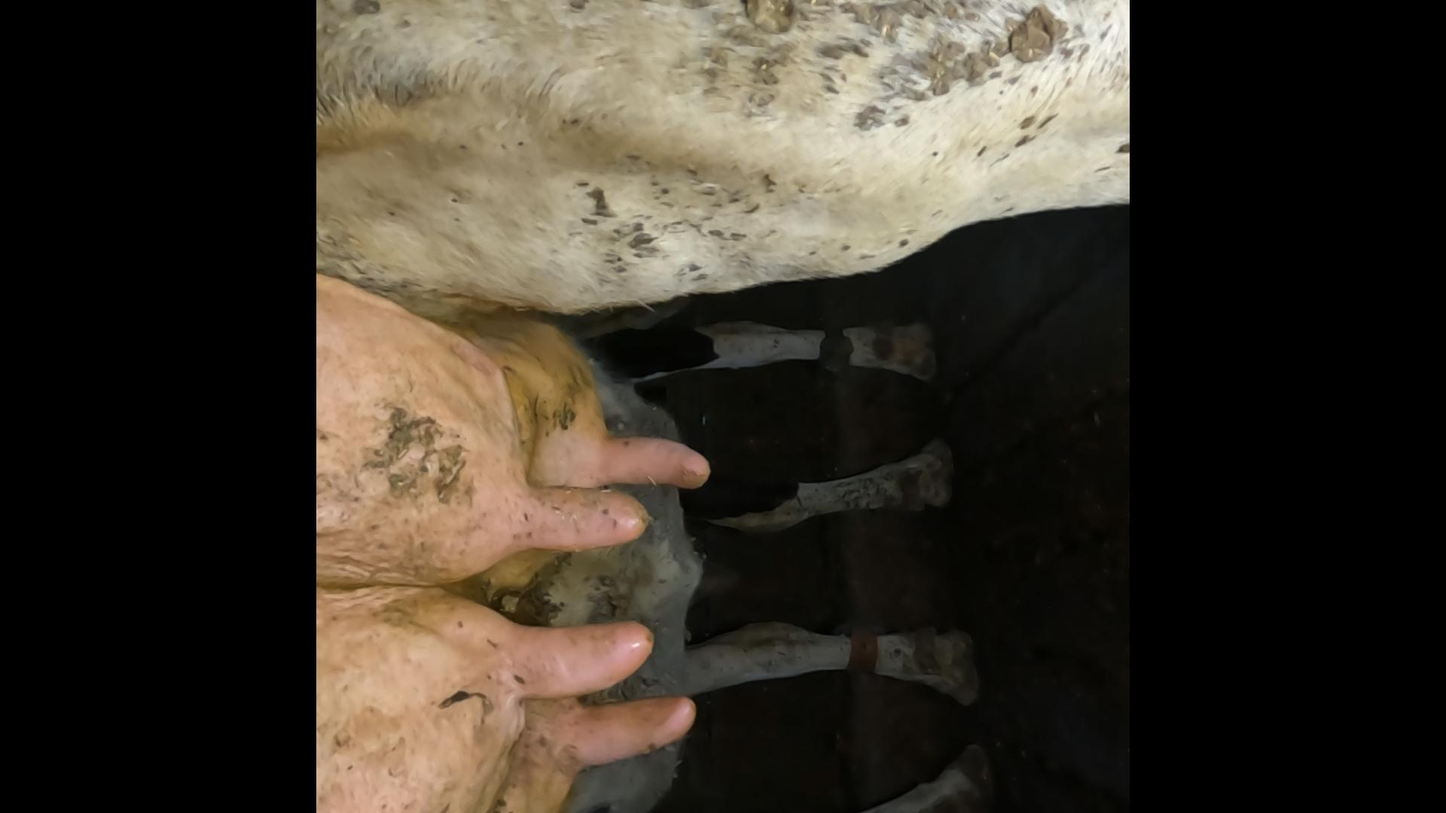Zitze: (493, 604, 672, 706), (543, 680, 694, 787), (574, 413, 723, 501), (485, 488, 649, 567)
